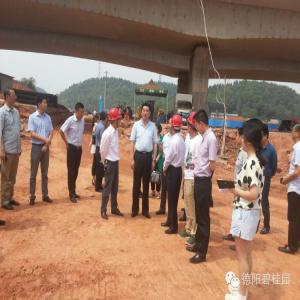none: (242, 118, 263, 154), (194, 108, 210, 134), (4, 85, 18, 107), (37, 95, 49, 113), (260, 125, 270, 144), (142, 103, 153, 120), (75, 102, 85, 120), (291, 124, 300, 144), (236, 127, 244, 147), (100, 111, 108, 125), (155, 124, 163, 136), (95, 113, 101, 123)
red: (109, 107, 123, 129), (171, 114, 183, 135), (188, 112, 198, 136)
